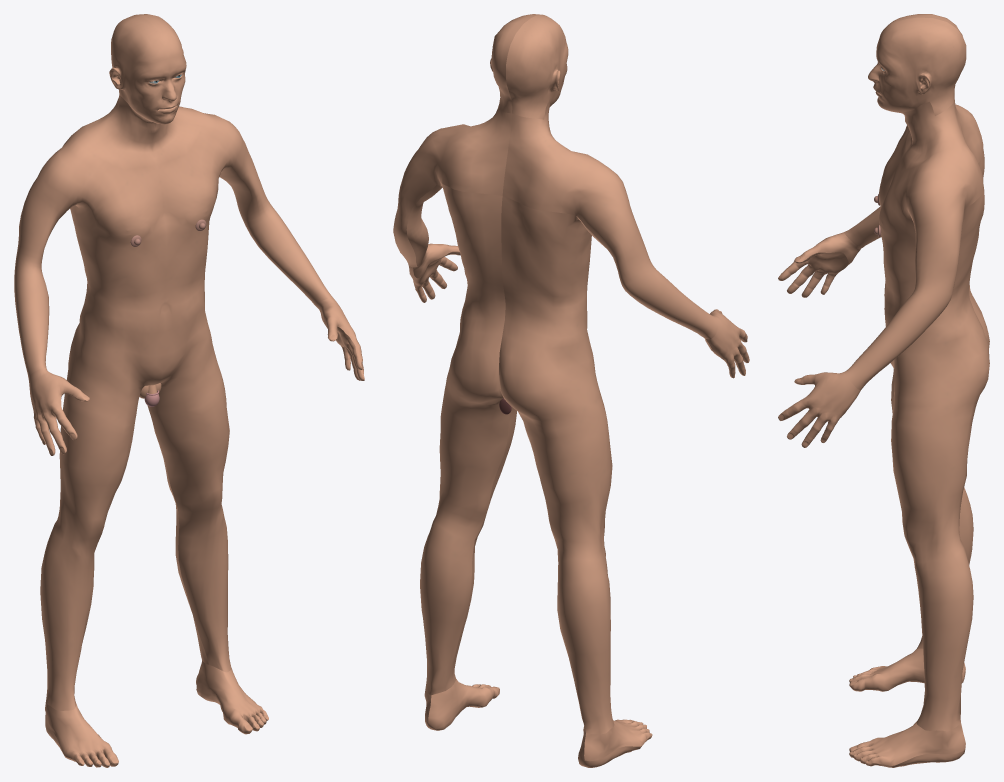
The model's file is body-junger-erwachsener-maennlich-real-v3.glb.
The picture shows the model from 3 angles, left to right: view 1: azimuth 30°, elevation 25°; view 2: azimuth 150°, elevation 25°; view 3: azimuth 270°, elevation 25°; orthographic projection.
Parts seen in each view (by area): view 1: real-human-body; view 2: real-human-body; view 3: real-human-body.
Part boxes in pixels (x1,y1,x2,y2): real-human-body: (14, 14, 364, 767); real-human-body: (393, 14, 749, 767); real-human-body: (778, 14, 989, 767).
Bounding box in the file's own units: 0.8069 × 1.72 × 0.4679.
8 materials, 1 textured.
